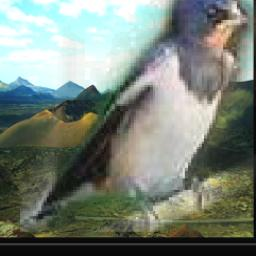Swallow: (19, 0, 256, 232)
